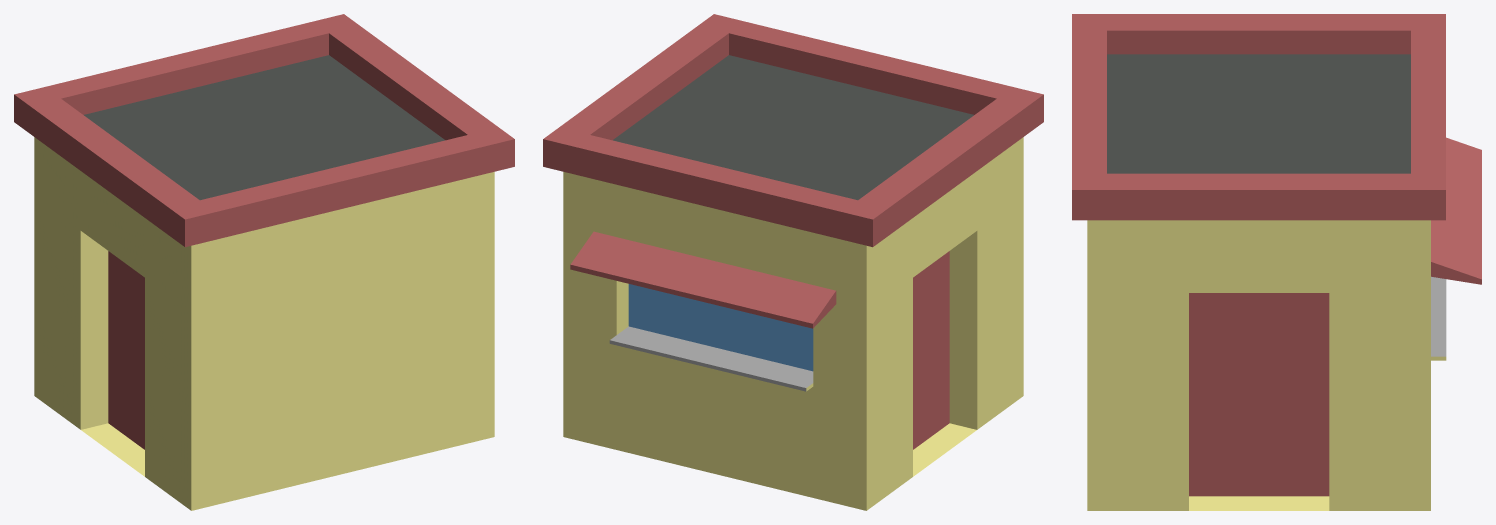
The model's file is building_1x1_4_g.glb.
3 renders of one model, left to right at view 1: azimuth 30°, elevation 25°; view 2: azimuth 150°, elevation 25°; view 3: azimuth 270°, elevation 25°, orthographic. The views are drawn at different scales.
Visible parts, largest first — view 1: Cube; view 2: Cube; view 3: Cube.
Part boxes in pixels (x1,y1,x2,y2): Cube: [14, 14, 514, 510]; Cube: [543, 14, 1043, 510]; Cube: [1072, 14, 1481, 510].
Size of the model in its own units: 1.91 by 1.66 by 1.88.
